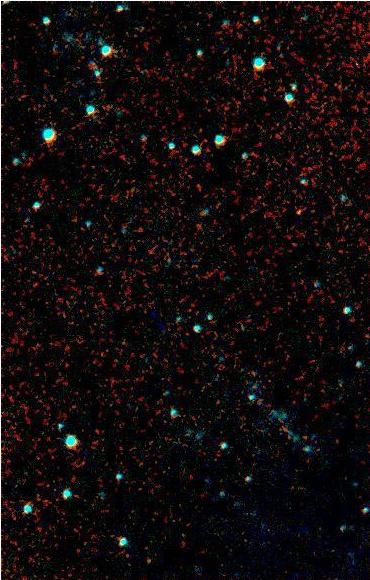star: (133, 545, 163, 575)
